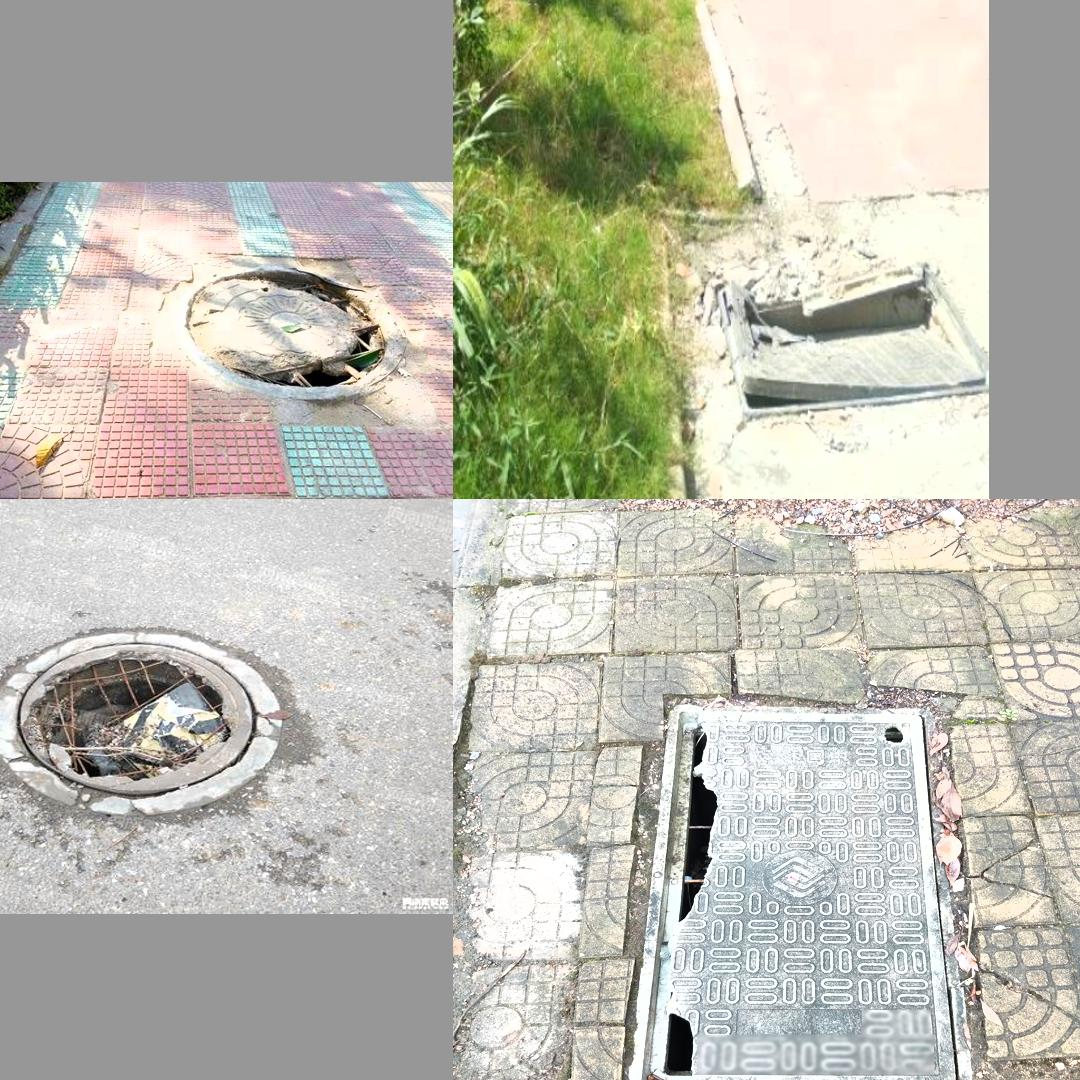broke: (624, 705, 958, 1080), (0, 618, 291, 816), (706, 264, 985, 398), (164, 260, 404, 399)
